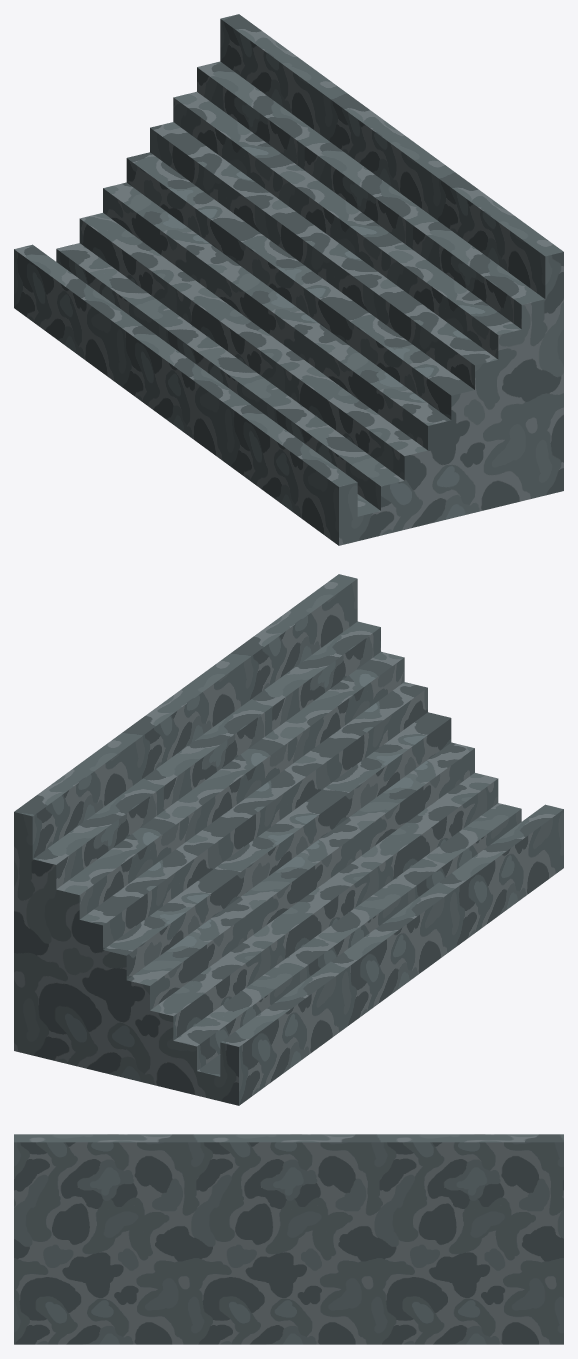
File: model_bleachers.fbx
The picture shows the model from 3 angles, top to bottom: view 1: azimuth 30°, elevation 25°; view 2: azimuth 150°, elevation 25°; view 3: azimuth 270°, elevation 25°; orthographic projection. The views are drawn at different scales.
Parts seen in each view (by area): view 1: mergedBlocks; view 2: mergedBlocks; view 3: mergedBlocks.
Part boxes in pixels (x1,y1,x2,y2): mergedBlocks: [14, 14, 563, 545]; mergedBlocks: [14, 574, 563, 1105]; mergedBlocks: [14, 1134, 563, 1344].
Size of the model in its own units: 12 by 12.18 by 30.
